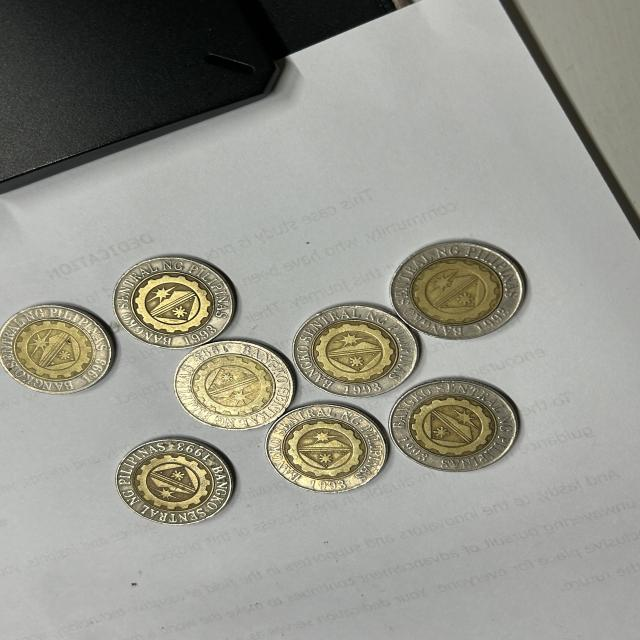10_Old_Back: (398, 248, 516, 333), (400, 383, 509, 467), (121, 445, 229, 516), (119, 266, 222, 340), (184, 348, 288, 421), (307, 312, 410, 382), (284, 414, 381, 486), (3, 315, 107, 382)
